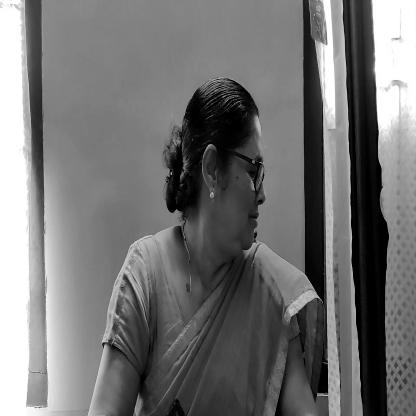Distracted: (162, 67, 267, 262)
